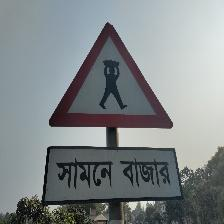Market-in-front: (42, 24, 178, 202)
